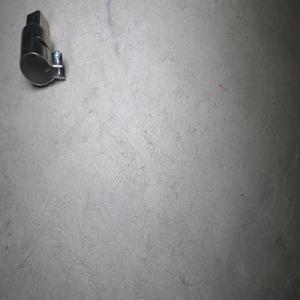MetalPart: (19, 9, 66, 86)
